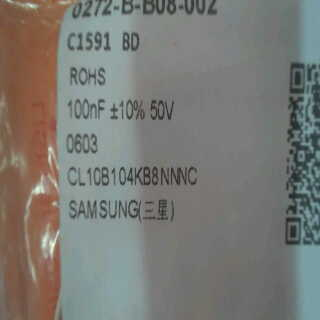100nF: (58, 93, 112, 126)
